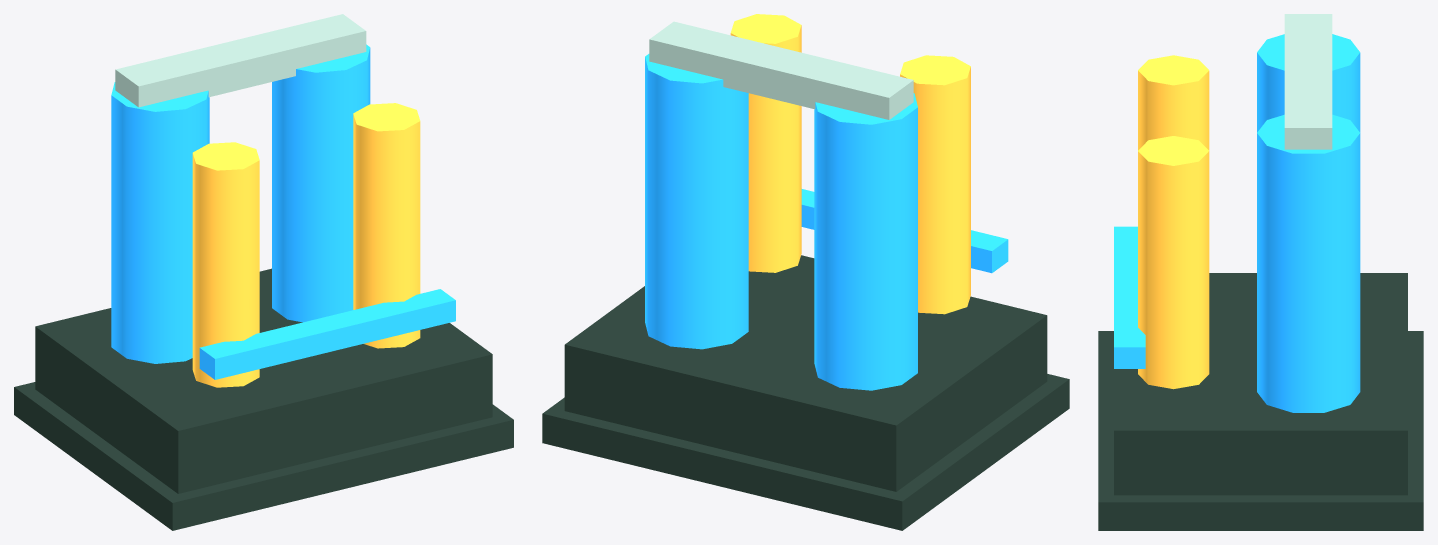
Rendered from smart-transformer.glb.
3 views of the same model, side by side, from view 1: azimuth 30°, elevation 25°; view 2: azimuth 150°, elevation 25°; view 3: azimuth 270°, elevation 25° (orthographic). The views are drawn at different scales.
Visible parts, largest first — view 1: body-transformer, pulse-coil-left, pulse-coil-right, base-footprint, pulse-cap-left, pulse-cap-right, beam-top-link, pulse-power-bus; view 2: body-transformer, pulse-coil-left, pulse-coil-right, base-footprint, pulse-cap-left, beam-top-link, pulse-cap-right, pulse-power-bus; view 3: body-transformer, pulse-coil-right, pulse-cap-right, base-footprint, beam-top-link, pulse-cap-left, pulse-coil-left, pulse-power-bus.
Part boxes in pixels (box(x1,y1,x2,y2)): body-transformer: box(35, 268, 492, 493); pulse-coil-left: box(111, 82, 209, 363); pulse-coil-right: box(272, 44, 370, 322); base-footprint: box(14, 382, 513, 530); pulse-cap-left: box(192, 142, 259, 387); pulse-cap-right: box(353, 103, 420, 348); beam-top-link: box(115, 14, 366, 107); pulse-power-bus: box(199, 289, 455, 379); body-transformer: box(564, 255, 1047, 491); pulse-coil-left: box(814, 93, 917, 390); pulse-coil-right: box(645, 54, 748, 349); base-footprint: box(542, 374, 1069, 530); pulse-cap-left: box(900, 55, 970, 314); beam-top-link: box(649, 21, 913, 119); pulse-cap-right: box(730, 14, 801, 272); pulse-power-bus: box(801, 189, 1008, 273); body-transformer: box(1114, 273, 1407, 495); pulse-coil-right: box(1257, 114, 1360, 412); pulse-cap-right: box(1138, 136, 1209, 389); base-footprint: box(1098, 331, 1423, 530); beam-top-link: box(1284, 14, 1332, 149); pulse-cap-left: box(1138, 55, 1209, 150); pulse-coil-left: box(1257, 34, 1360, 132); pulse-power-bus: box(1114, 226, 1145, 368).
Size of the model in its own units: 1.02 by 1.04 by 0.82.
